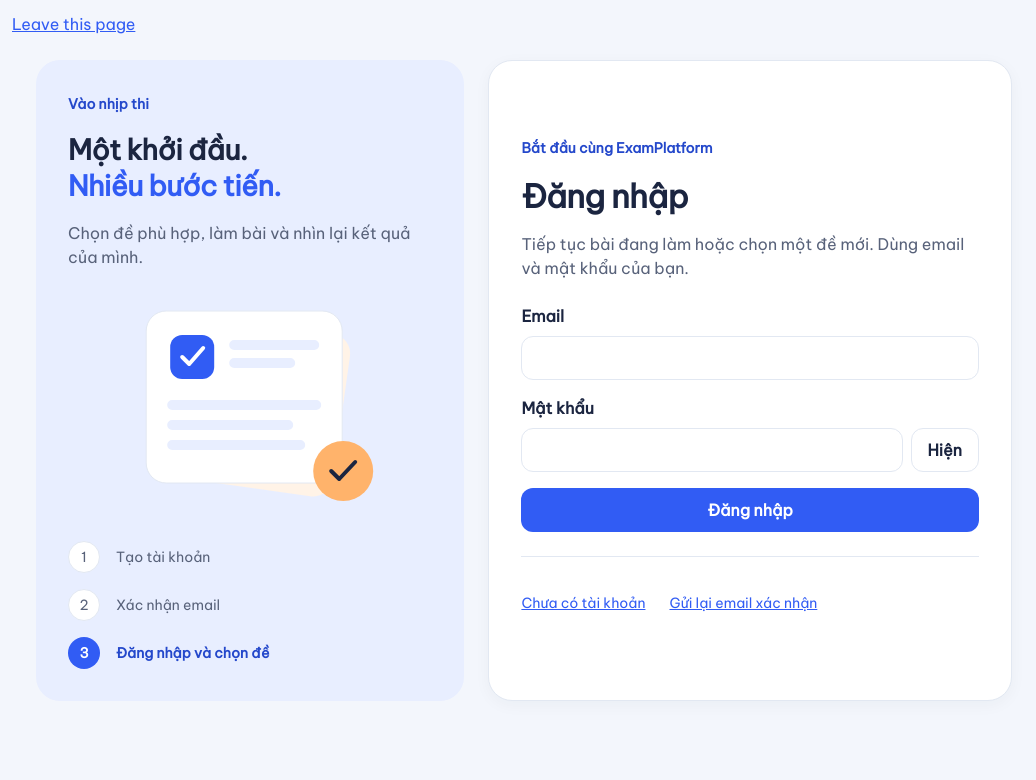
identity request and session fences › rejects a profile whose id differs from the acknowledged login user
Type "person@example.test" into the field labelled "Email" at x=750, y=358, box [521, 336, 979, 380]
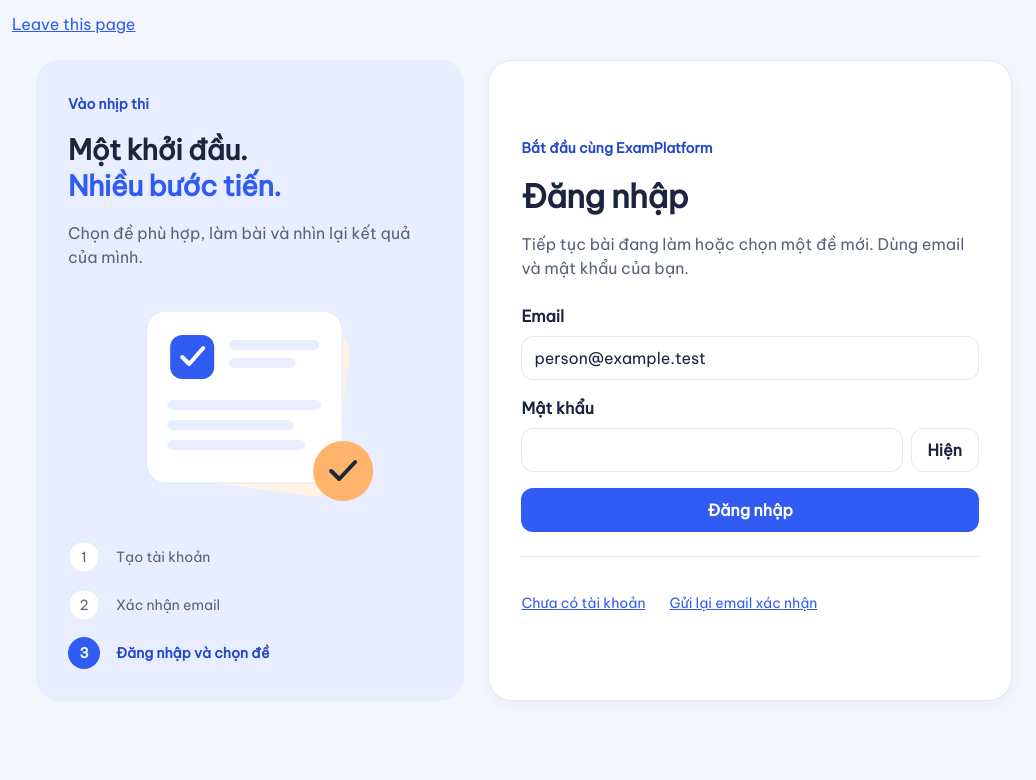
Type "fixture-password-ok" into the password field labelled "Mật khẩu" at x=712, y=450, box [521, 428, 902, 472]
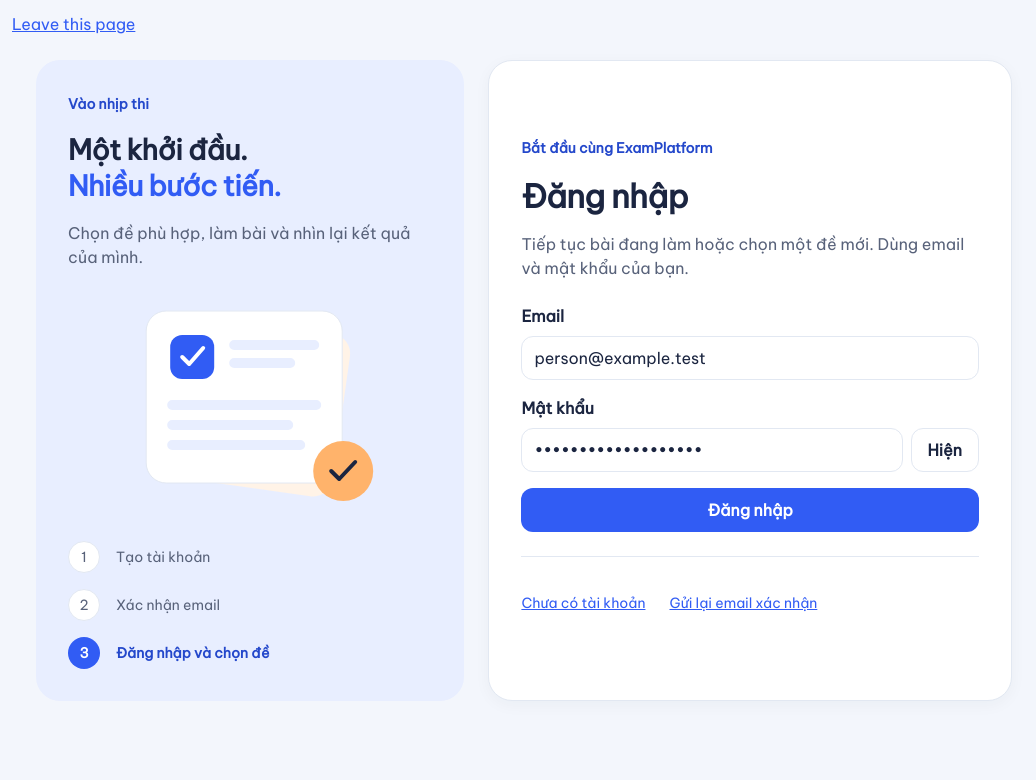
Click the button "Đăng nhập" at x=750, y=510, box [521, 488, 979, 532]
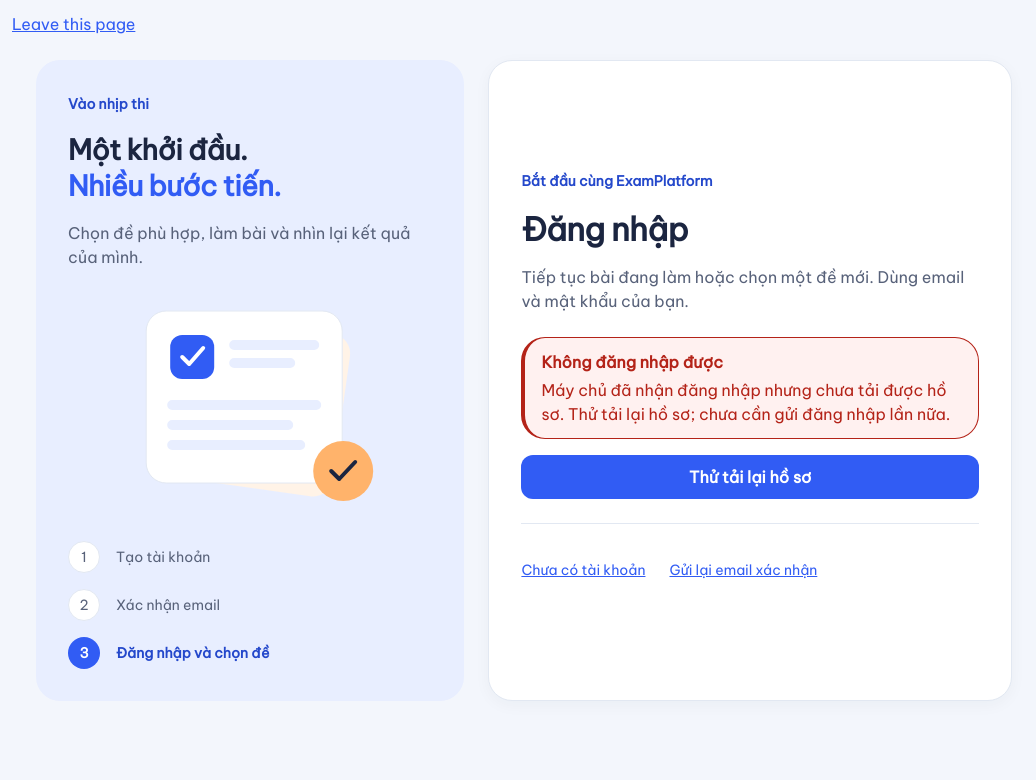
Expected: the message is shown, [521, 337, 979, 439]
